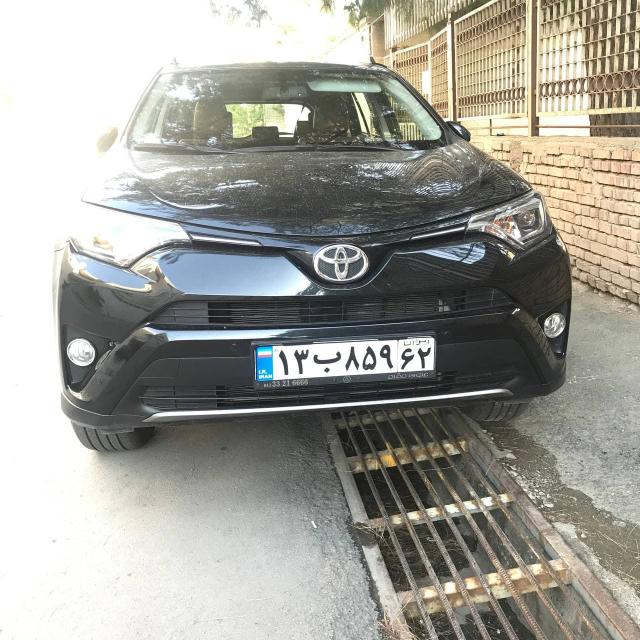Plates: (253, 333, 438, 381)
